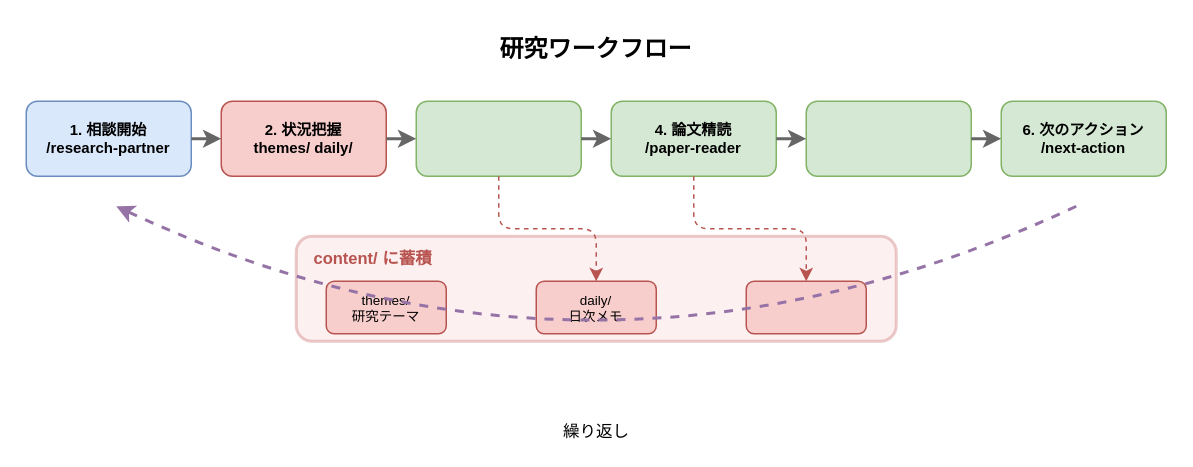
The diagram is 1193 pixels wide and 467 high, and some of its shapes have lost their labels. Each missing label, with the box of its shape:
3. 論文調査 /survey-*: (415, 100, 581, 176)
5. アイデア整理 /idea-organizer: (805, 100, 971, 176)
papers/ 論文ノート: (745, 280, 866, 334)
